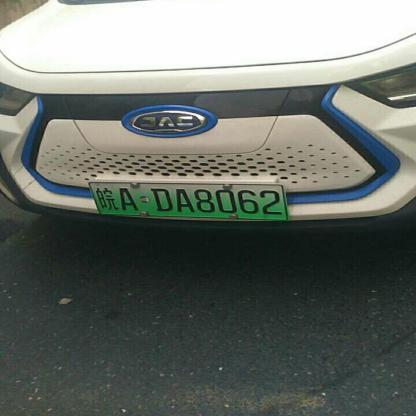lp: (88, 183, 287, 221)
